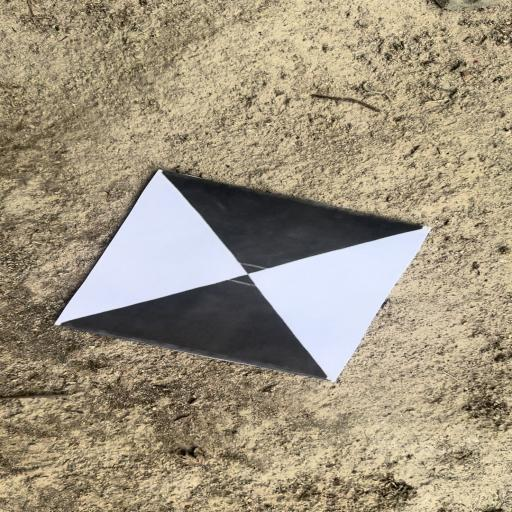target: (52, 167, 435, 383)
